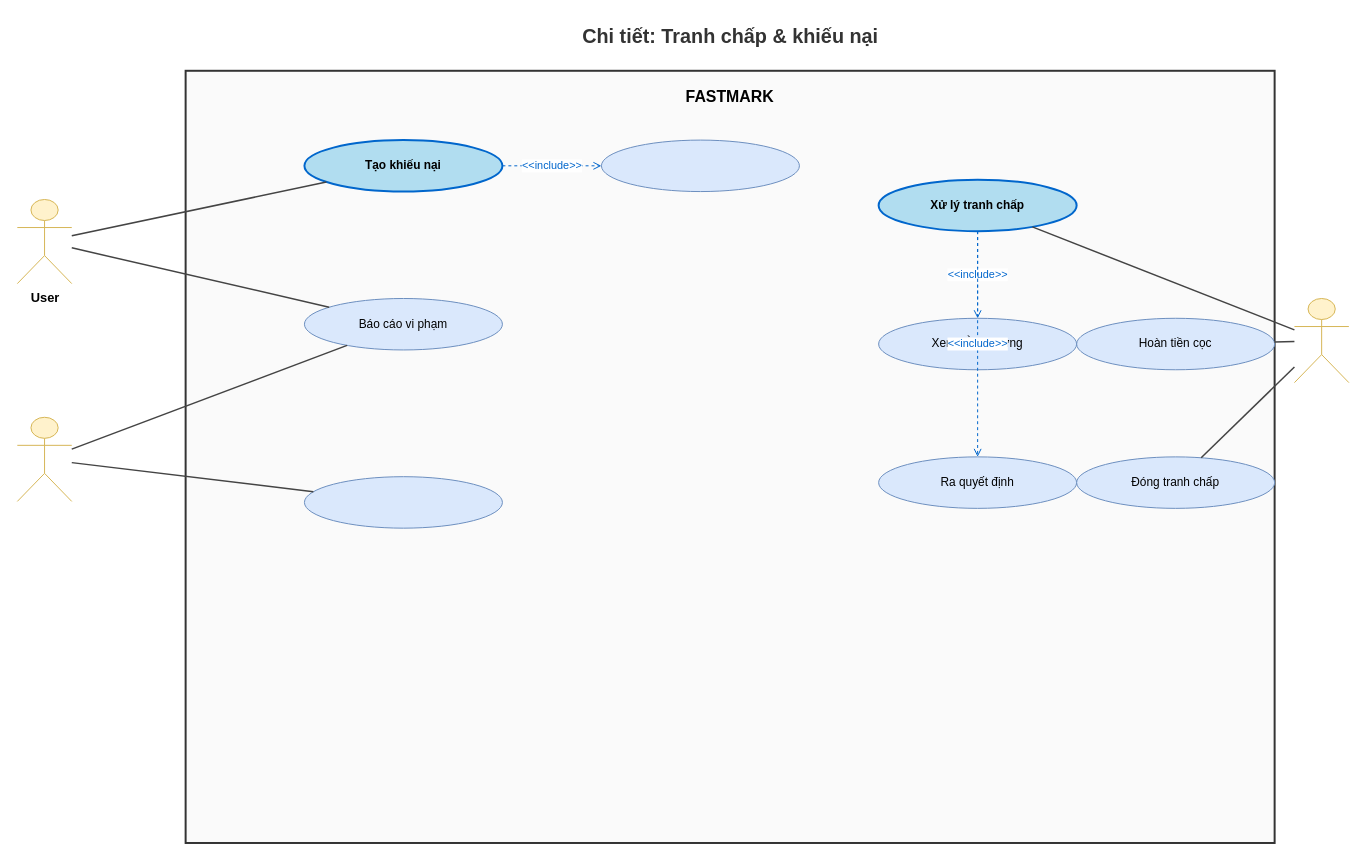
Some shapes in this 1366 by 860 pixel diagram are drawn without their labels. Each missing label, with the centre of its shape:
"Admin" goes at (x=1321, y=340).
"Báo cáo người mua không đến nhận" goes at (x=402, y=502).
"Seller" goes at (x=44, y=458).
"Upload bằng chứng" goes at (x=699, y=165).
